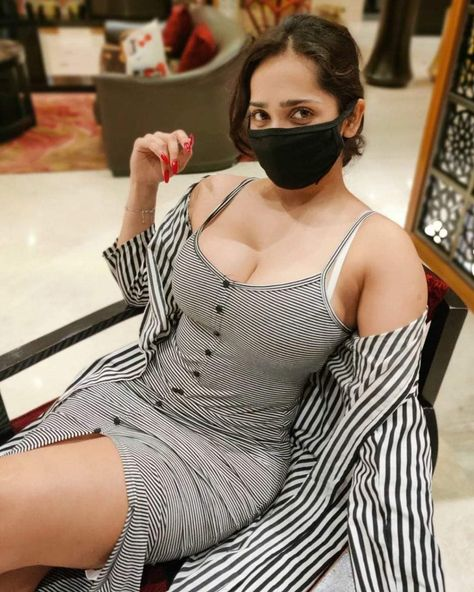with_mask: (251, 92, 339, 175)
